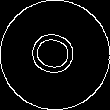O_E: (25, 27, 85, 82)
